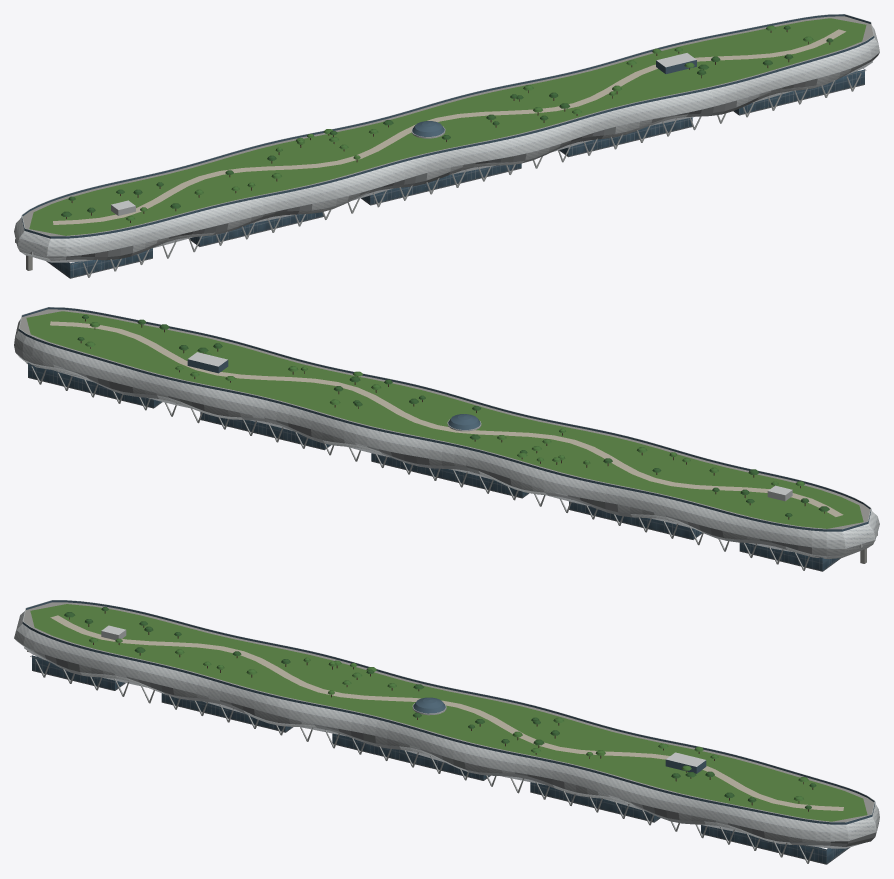
File: salesforce_transit_center.glb
3 renders of one model, top to bottom at view 1: azimuth 30°, elevation 25°; view 2: azimuth 150°, elevation 25°; view 3: azimuth 330°, elevation 25°, orthographic.
Visible parts, largest first — view 1: salesforce_transit_center; view 2: salesforce_transit_center; view 3: salesforce_transit_center.
Boxes of the visible parts, x1,y1,x2,y2 form: salesforce_transit_center: (14, 14, 879, 278); salesforce_transit_center: (14, 307, 879, 571); salesforce_transit_center: (14, 600, 879, 864).
Size of the model in its own units: 438 by 23.98 by 55.49.
2 materials, 2 textured.
